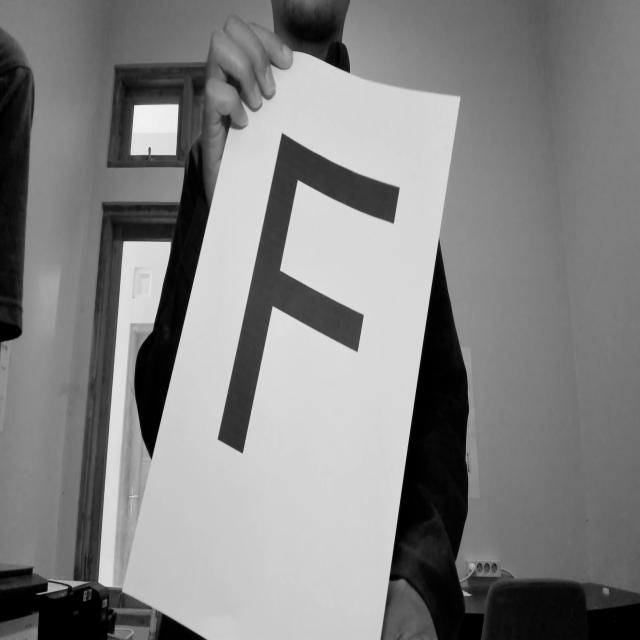f: (214, 126, 405, 514)
